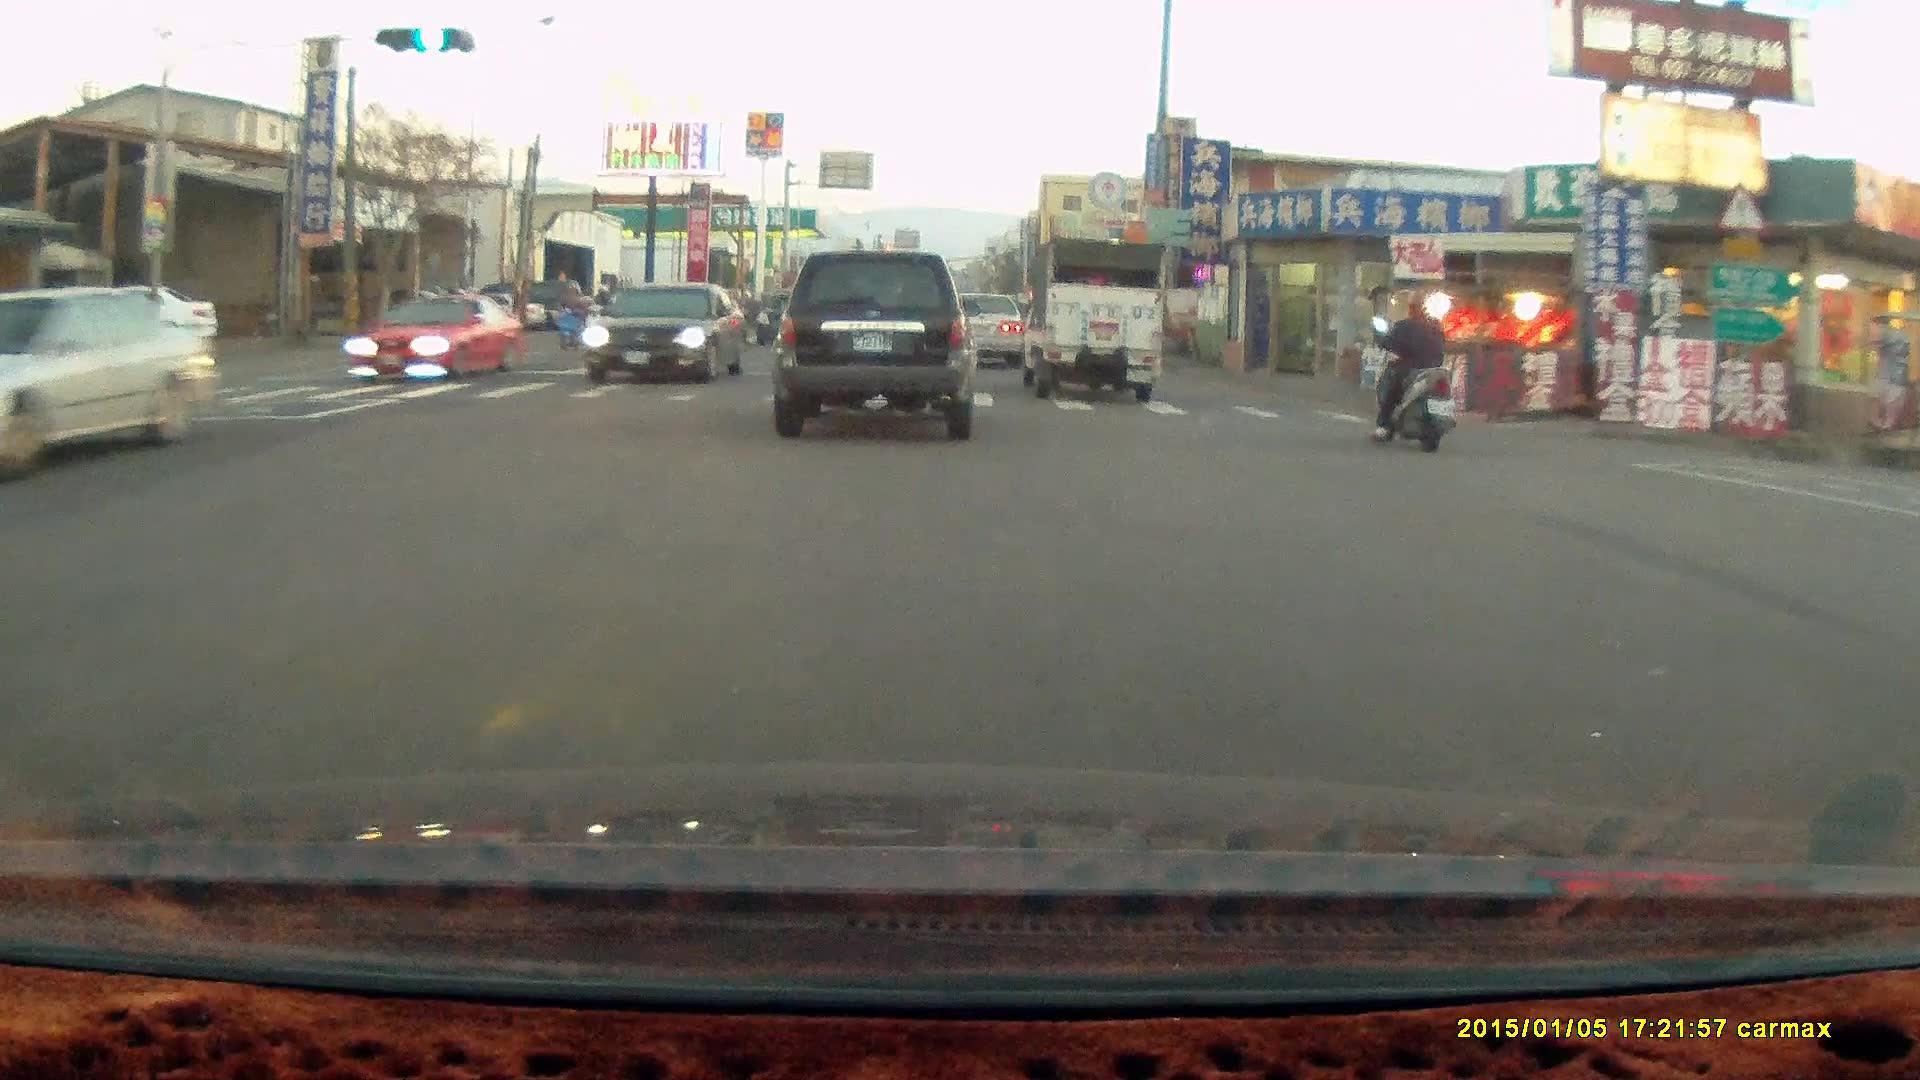rider: (1366, 280, 1455, 445), (550, 284, 588, 347)
vehicle: (1, 287, 219, 479), (769, 249, 981, 442), (1014, 231, 1166, 402), (589, 280, 744, 388), (351, 290, 523, 383), (32, 281, 220, 350), (941, 291, 1029, 371), (940, 290, 1025, 370)
